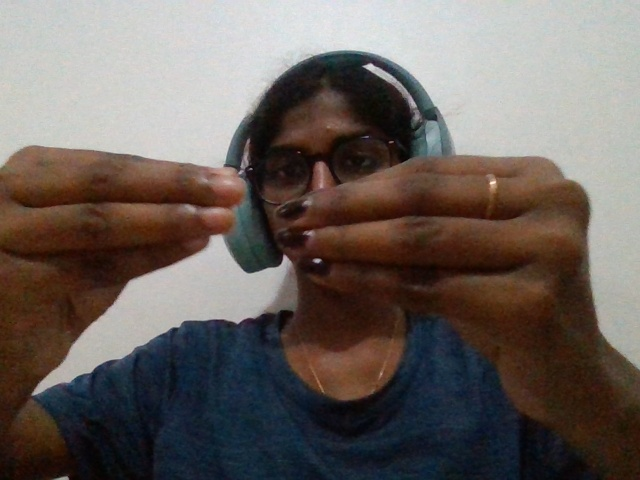More: (4, 128, 629, 441)
